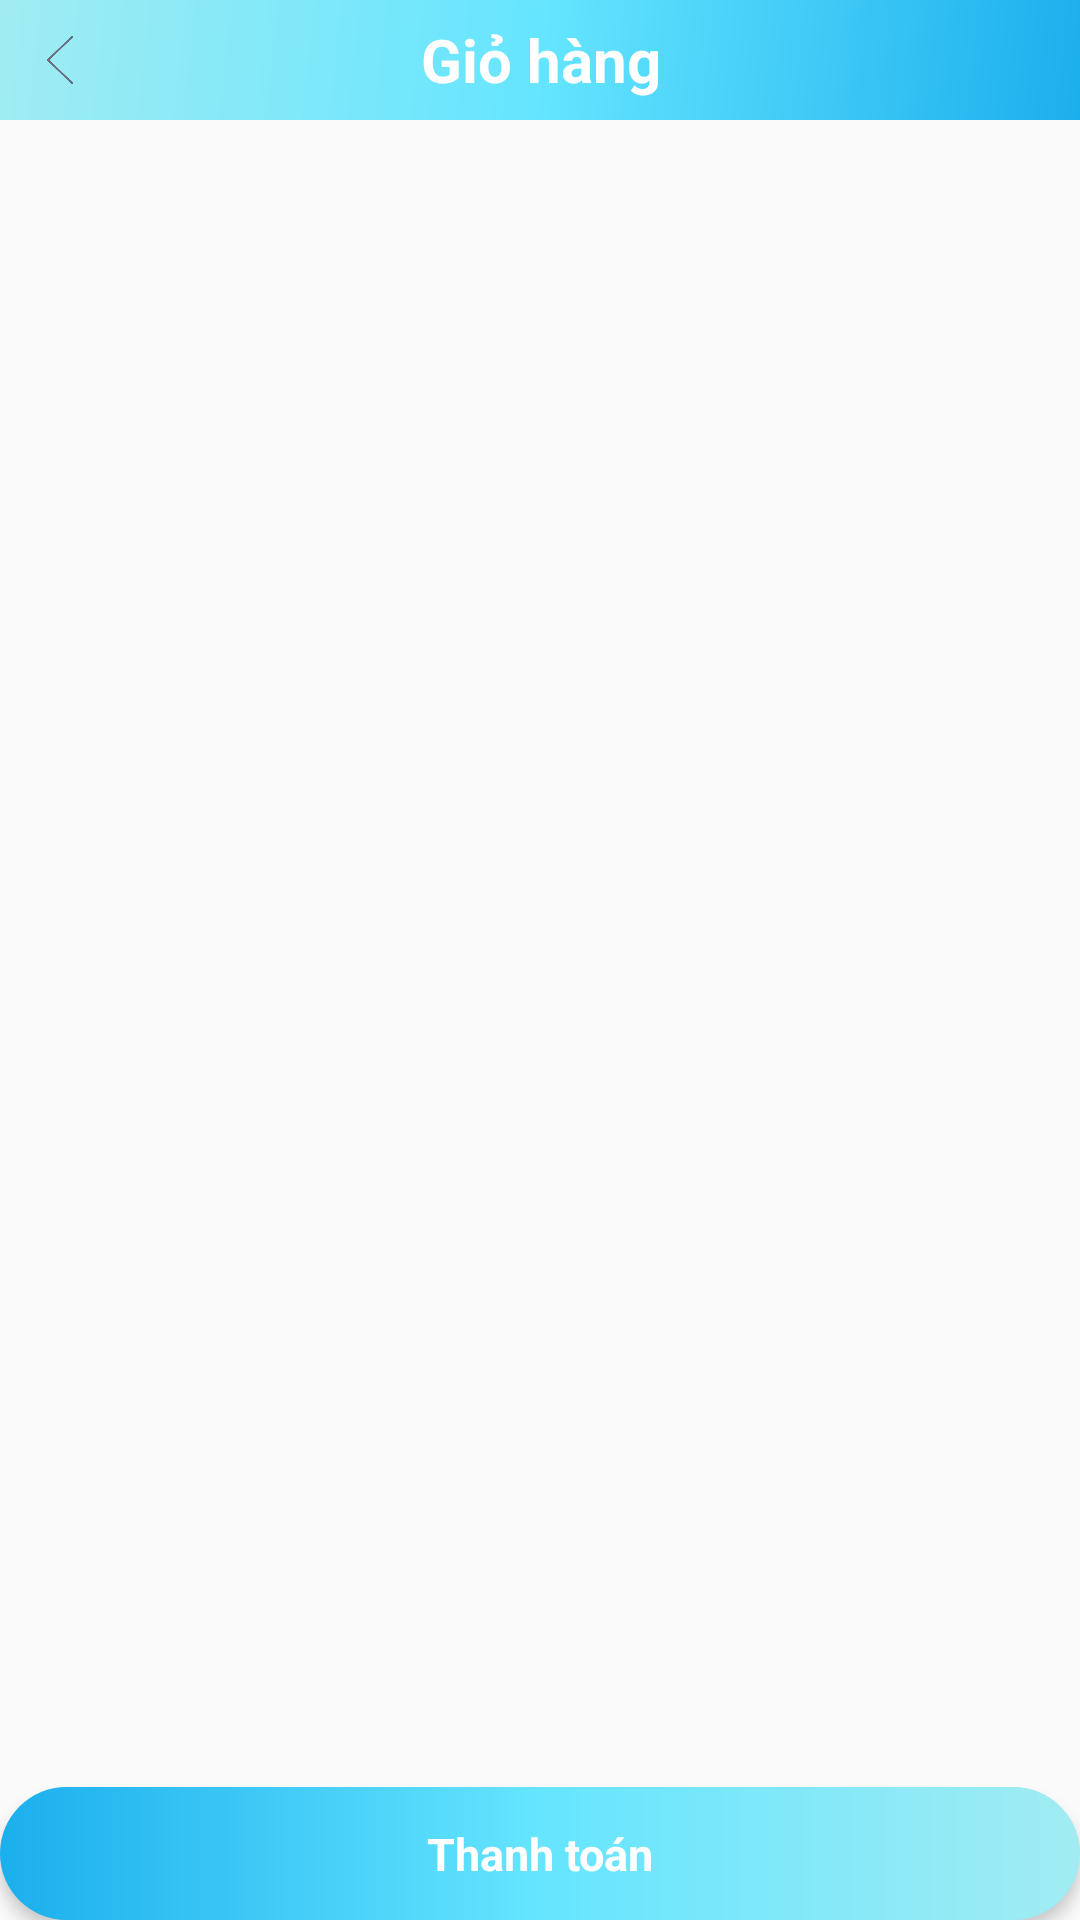

Icons on this 1080 x 1920 Android screen, each with the point to tap as (x,y):
quaylai: (60,60)
